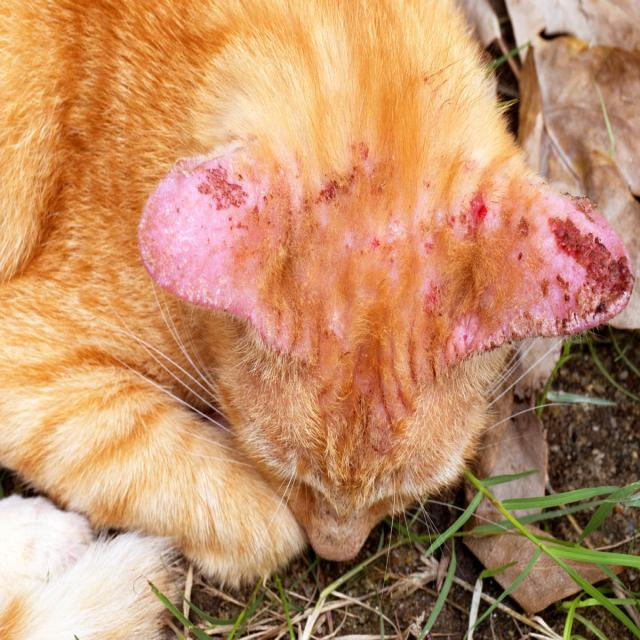cat-dermatitis: (488, 207, 628, 330), (143, 166, 280, 288), (308, 145, 396, 217), (409, 276, 487, 351), (334, 234, 412, 282), (440, 186, 486, 243)
